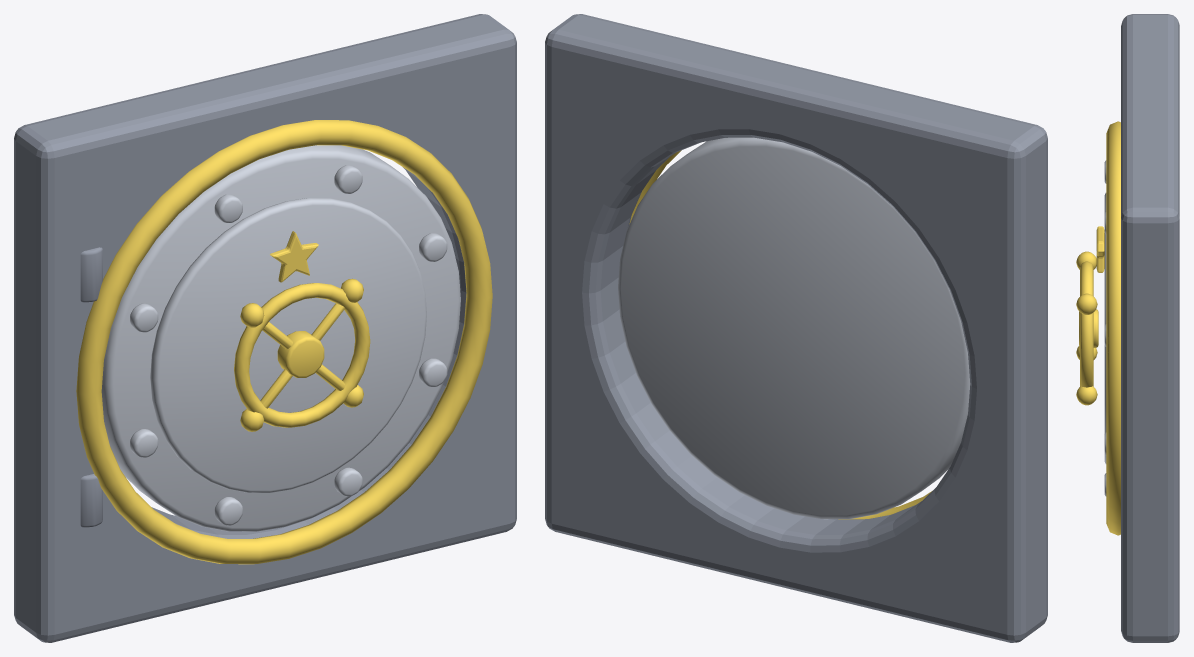
File: VaultDoor.fbx
3 renders of one model, left to right at view 1: azimuth 30°, elevation 25°; view 2: azimuth 150°, elevation 25°; view 3: azimuth 270°, elevation 25°, orthographic. The views are drawn at different scales.
Parts seen in each view (by area): view 1: VaultDoor_Frame, VaultDoor_Door, VaultDoor_Trim, VaultDoor_Wheel, VaultDoor_Hinges, VaultDoor_DoorStar; view 2: VaultDoor_Frame, VaultDoor_Door, VaultDoor_Trim; view 3: VaultDoor_Frame, VaultDoor_Trim, VaultDoor_Wheel, VaultDoor_Door, VaultDoor_DoorStar.
Part boxes in pixels (x1=…): VaultDoor_Frame: x1=14, y1=14, x2=516, y2=642; VaultDoor_Door: x1=101, y1=145, x2=460, y2=531; VaultDoor_Trim: x1=76, y1=120, x2=492, y2=564; VaultDoor_Wheel: x1=234, y1=278, x2=370, y2=431; VaultDoor_Hinges: x1=80, y1=247, x2=102, y2=527; VaultDoor_DoorStar: x1=270, y1=231, x2=318, y2=282; VaultDoor_Frame: x1=545, y1=14, x2=1047, y2=642; VaultDoor_Door: x1=618, y1=137, x2=970, y2=519; VaultDoor_Trim: x1=629, y1=150, x2=931, y2=519; VaultDoor_Frame: x1=1121, y1=14, x2=1179, y2=642; VaultDoor_Trim: x1=1106, y1=121, x2=1120, y2=535; VaultDoor_Wheel: x1=1076, y1=251, x2=1098, y2=405; VaultDoor_Door: x1=1104, y1=160, x2=1106, y2=496; VaultDoor_DoorStar: x1=1096, y1=226, x2=1104, y2=272.
Size of the model in its own units: 490 by 490 by 106.
